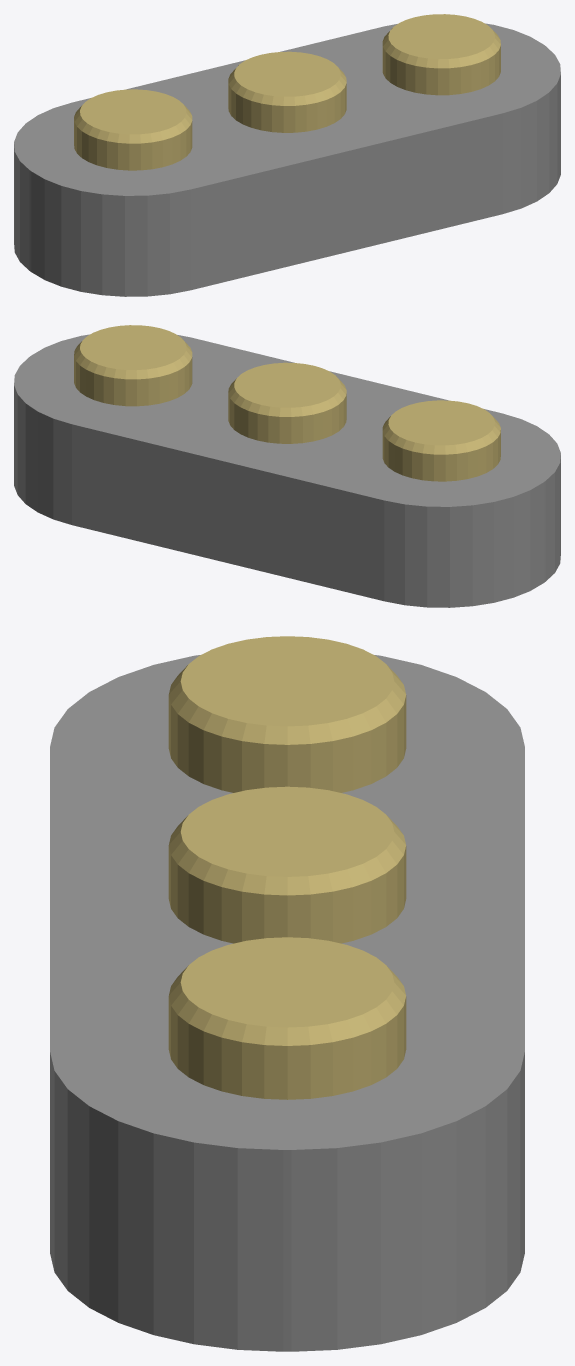
Rendered from More Button.fbx.
3 views of the same model, one above another, from view 1: azimuth 30°, elevation 25°; view 2: azimuth 150°, elevation 25°; view 3: azimuth 270°, elevation 25° (orthographic). The views are drawn at different scales.
Visible parts, largest first — view 1: Done Button, More Button 1.002, More Button 1.001, More Button 1; view 2: Done Button, More Button 1.002, More Button 1.001, More Button 1; view 3: Done Button, More Button 1.002, More Button 1.001, More Button 1.
Boxes of the visible parts, <box> form: Done Button: <box>14,23,560,296</box>; More Button 1.002: <box>382,14,500,95</box>; More Button 1.001: <box>74,89,192,170</box>; More Button 1: <box>228,51,346,132</box>; Done Button: <box>14,334,560,607</box>; More Button 1.002: <box>74,325,192,406</box>; More Button 1.001: <box>382,400,500,481</box>; More Button 1: <box>228,362,346,443</box>; Done Button: <box>50,655,524,1351</box>; More Button 1.002: <box>168,937,406,1099</box>; More Button 1.001: <box>168,636,406,792</box>; More Button 1: <box>168,786,406,943</box>.
Size of the model in its own units: 80 by 20 by 32.
